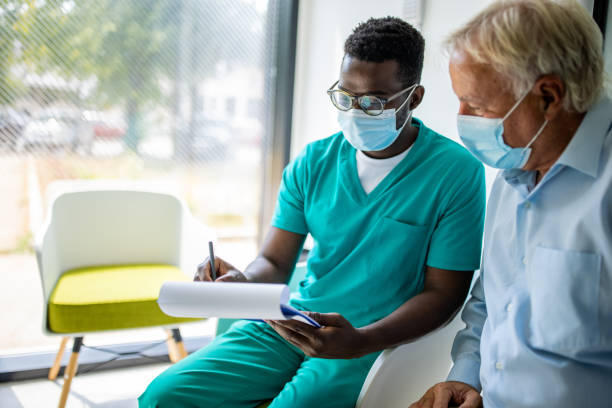with mask: (434, 32, 572, 178), (327, 33, 415, 151)
